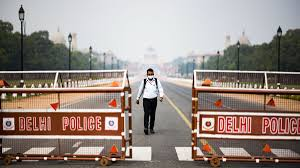mask: (145, 66, 154, 80)
